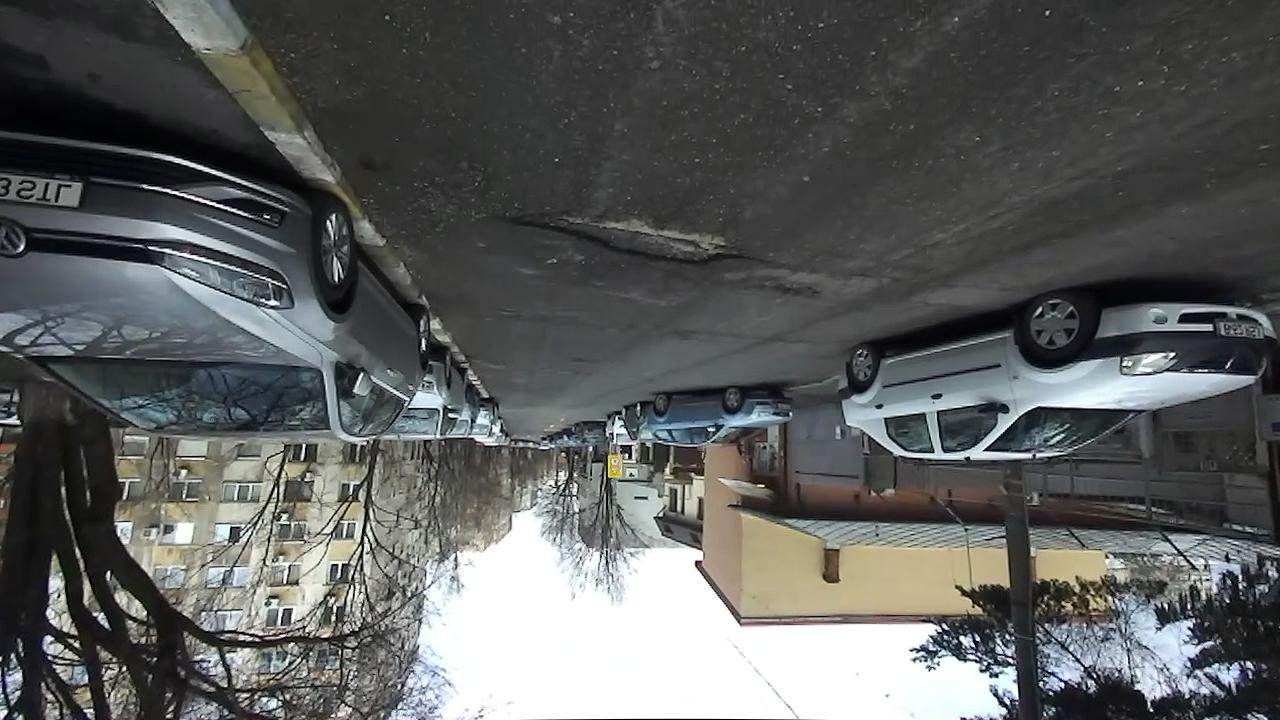pothole: (499, 211, 776, 269), (748, 277, 825, 307)
